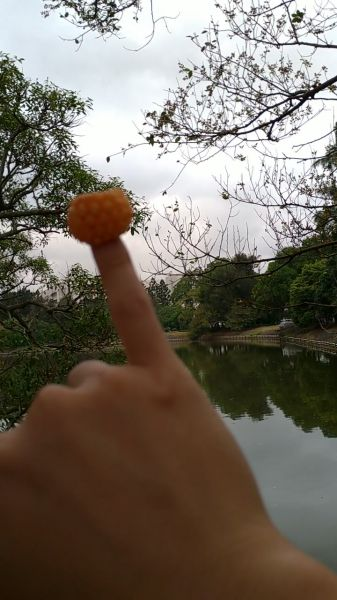eggs: (67, 187, 133, 244)
